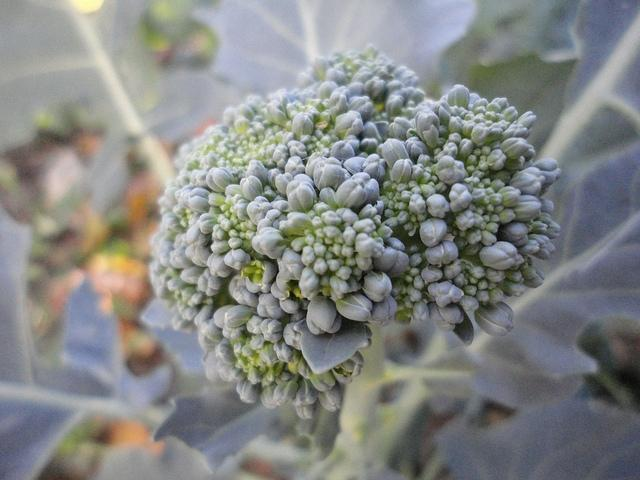cauliflower: (144, 42, 566, 422)
